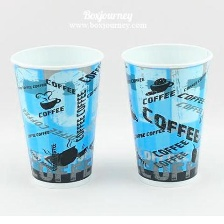paper_cup: (5, 39, 108, 193), (116, 39, 216, 191)
